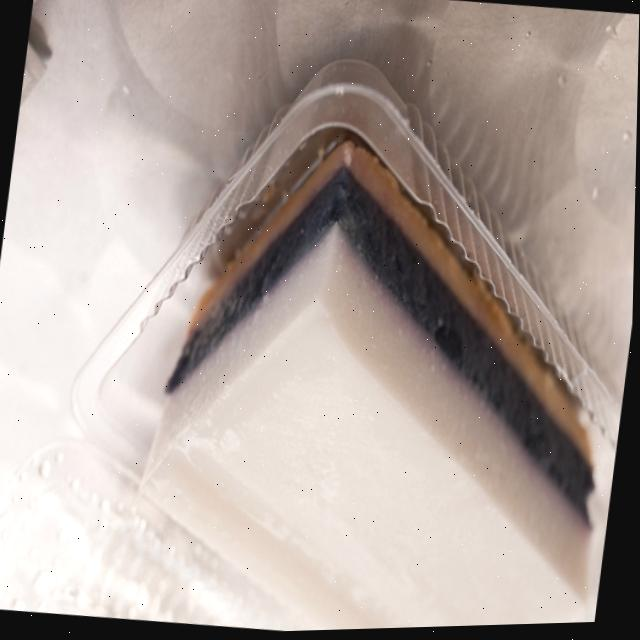蛋糕甜品: (54, 0, 640, 638)
